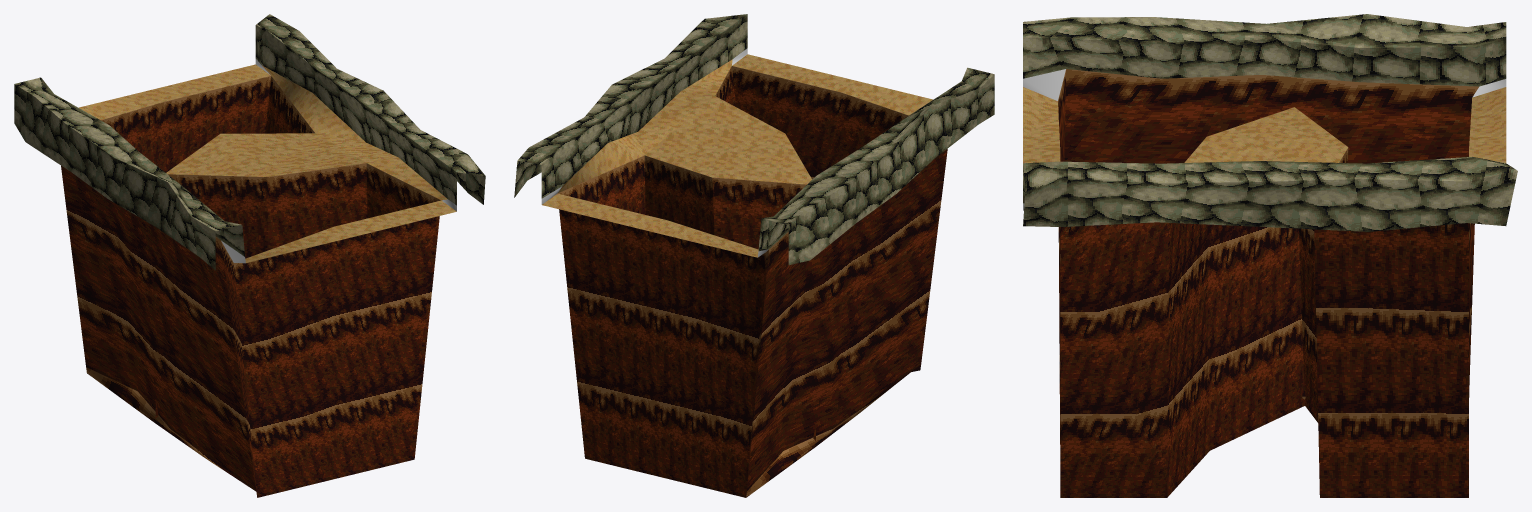
3 views of the same model, side by side, from view 1: azimuth 30°, elevation 25°; view 2: azimuth 150°, elevation 25°; view 3: azimuth 270°, elevation 25° (orthographic). The views are drawn at different scales.
Visible parts, largest first — view 1: tv_t2b0e0v7; view 2: tv_t2b0e0v7; view 3: tv_t2b0e0v7.
Boxes of the visible parts, x1,y1,x2,y2 form: tv_t2b0e0v7: (14,14,485,497); tv_t2b0e0v7: (514,14,994,497); tv_t2b0e0v7: (1023,14,1517,497).
Size of what is drawn, in the model's own units: 10.47 by 13.32 by 10.73.
